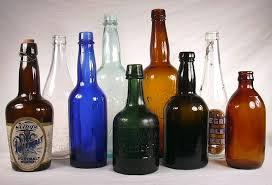Glass bottle: (5, 0, 272, 185)
